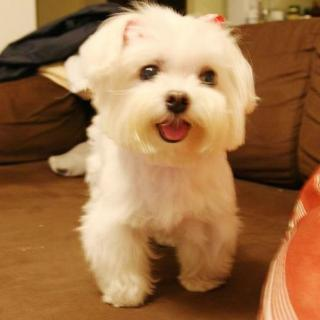dog: (62, 12, 265, 171)
nose: (162, 82, 195, 119)
